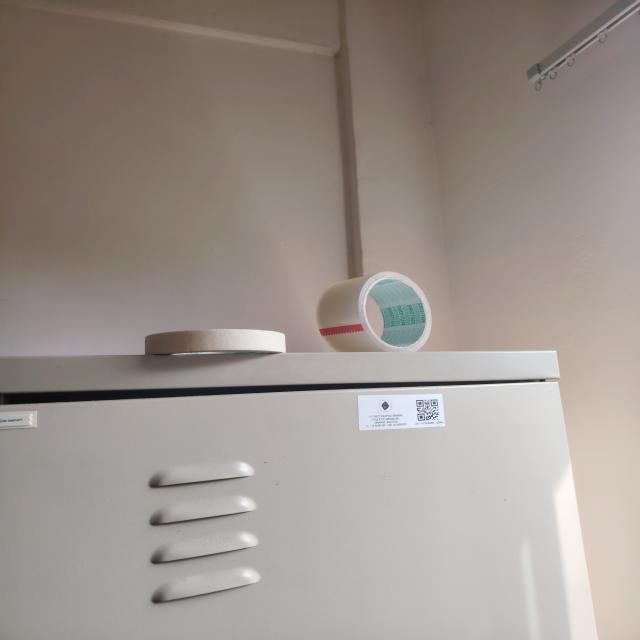tape: (317, 272, 431, 352), (145, 329, 286, 355)
